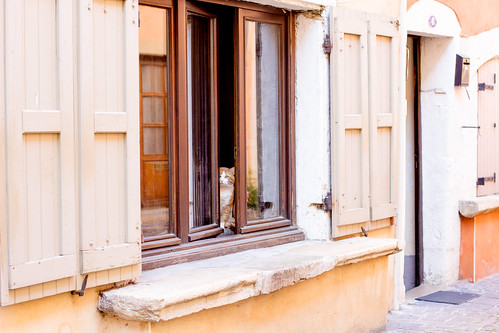animal: (206, 164, 246, 233)
door: (401, 32, 461, 309)
window: (134, 1, 328, 266)
